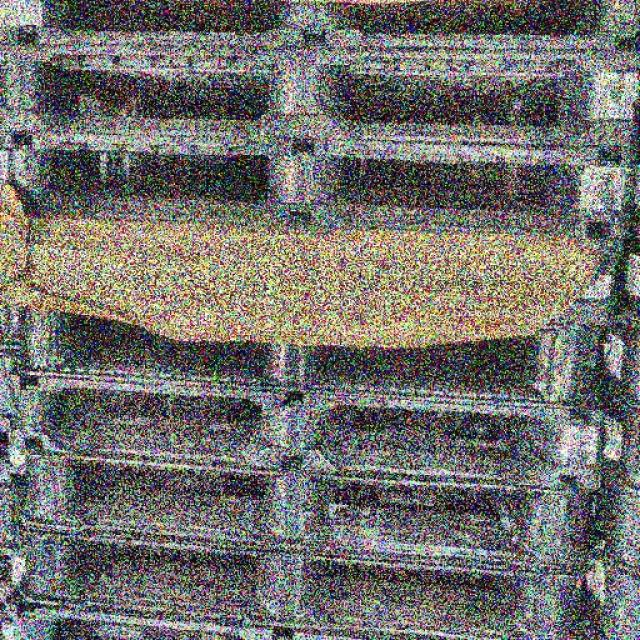igps: (11, 275, 617, 419), (14, 435, 601, 580), (13, 362, 611, 503), (0, 120, 640, 248), (0, 33, 640, 160), (9, 515, 589, 640), (0, 0, 640, 62), (11, 595, 458, 640)
